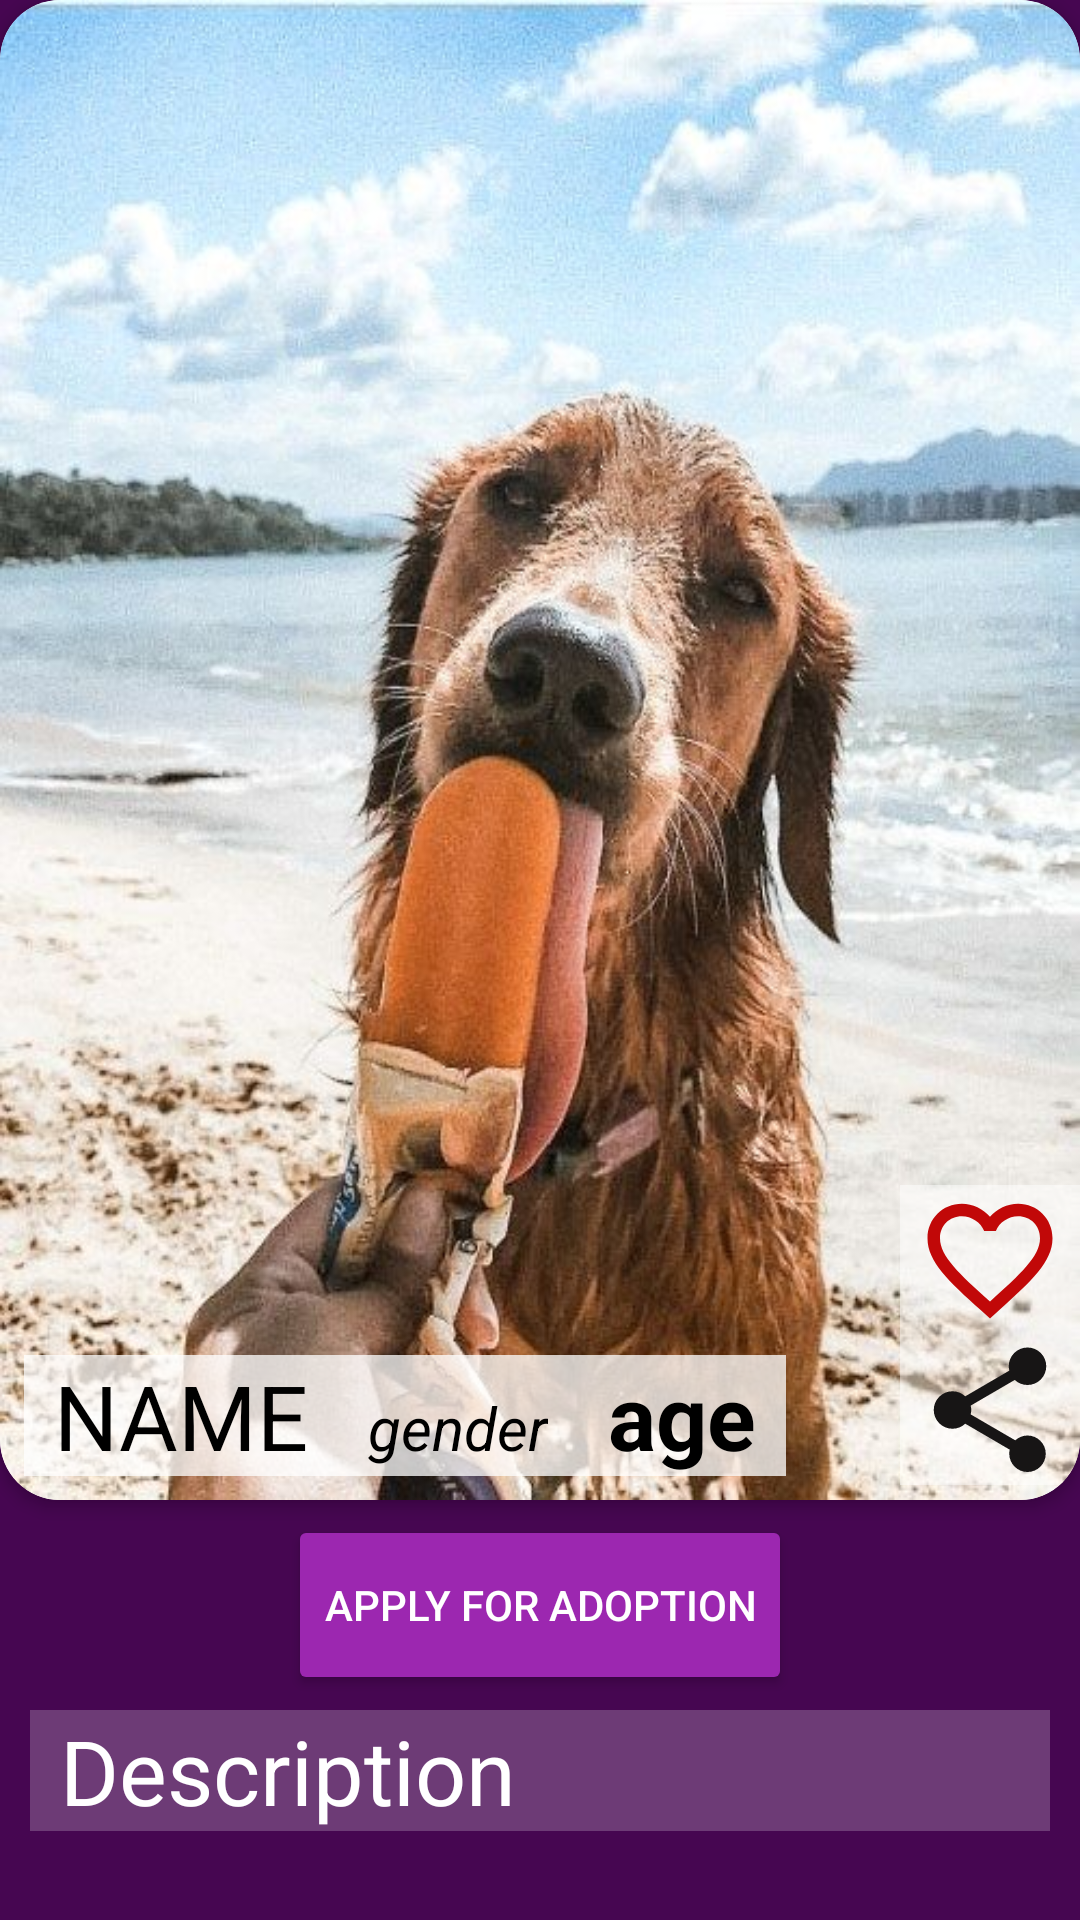

Point at icon controls on the screen. Image size 1080*1920, points as (x=x, y=y).
favselector: (x=984, y=1269)
share: (x=990, y=1410)
